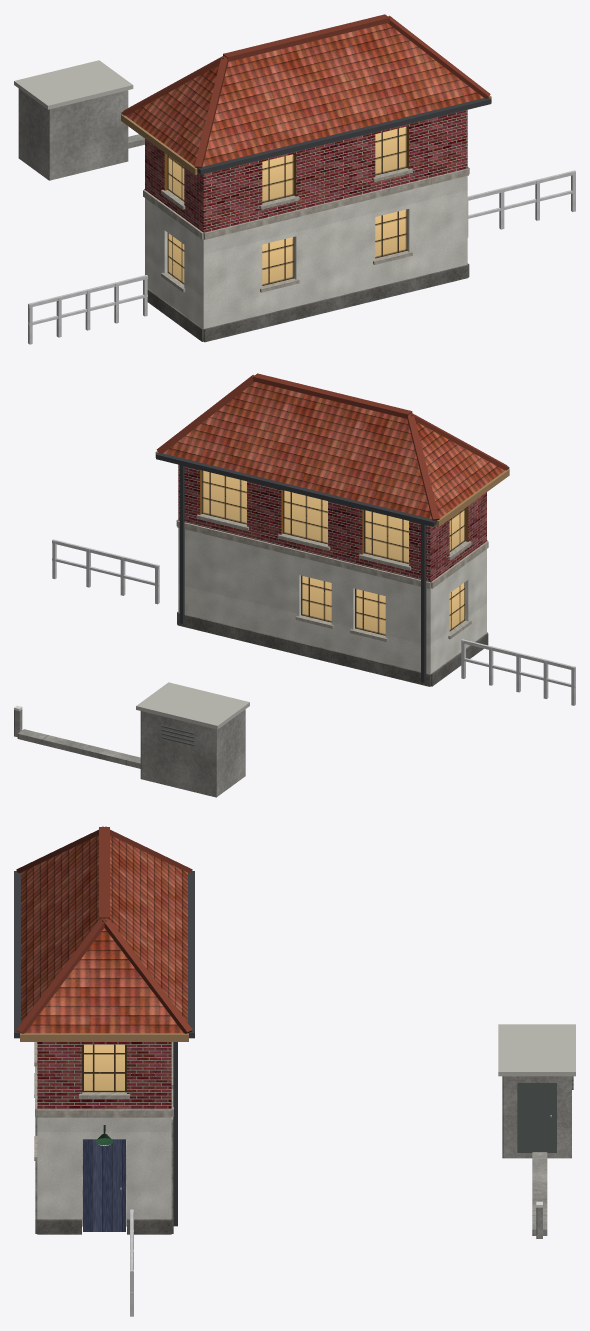
File: smerovani.glb
The picture shows the model from 3 angles, top to bottom: view 1: azimuth 30°, elevation 25°; view 2: azimuth 150°, elevation 25°; view 3: azimuth 270°, elevation 25°; orthographic projection. The views are drawn at different scales.
Visible parts, largest first — view 1: dum, noc; view 2: dum, noc; view 3: dum, dvere_00, noc.
Part boxes in pixels (x1,y1,x2,y2): dum: (14,14,575,344); noc: (167,126,407,285); dum: (14,373,575,797); noc: (202,470,464,635); dum: (14,826,575,1316); dvere_00: (83,1139,125,1231); noc: (82,1044,126,1145).
Bounding box in the file's own units: 14.5 × 6.39 × 11.3.
6 materials, 5 textured.
